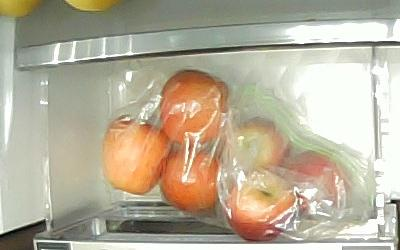apple_vinyl: (100, 114, 174, 194), (158, 68, 229, 145), (223, 168, 296, 242), (280, 148, 351, 218), (159, 145, 223, 213), (220, 114, 292, 171)
